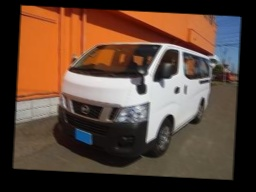van: (54, 37, 213, 166)
